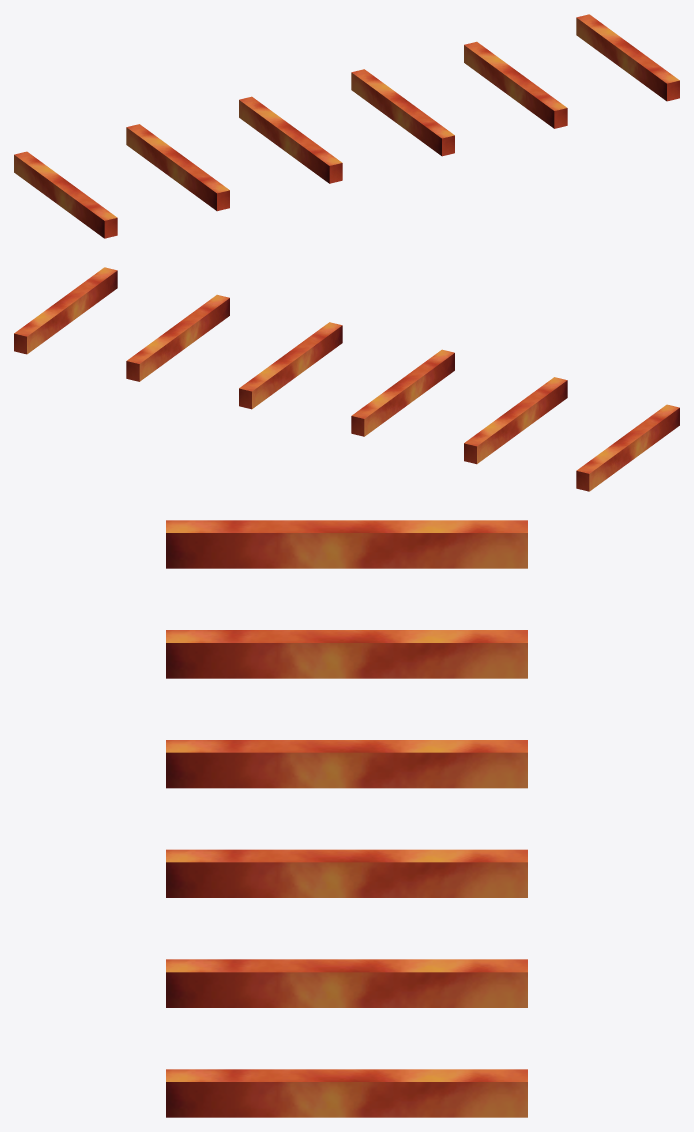
Rendered from lavablock.obj.
The picture shows the model from 3 angles, top to bottom: view 1: azimuth 30°, elevation 25°; view 2: azimuth 150°, elevation 25°; view 3: azimuth 270°, elevation 25°; orthographic projection. The views are drawn at different scales.
Visible parts, largest first — view 1: lavaBlock; view 2: lavaBlock; view 3: lavaBlock.
Boxes of the visible parts, box(x1,y1,x2,y2) form: lavaBlock: box(14, 14, 679, 238); lavaBlock: box(14, 267, 679, 491); lavaBlock: box(166, 520, 527, 1117).
Size of the model in its own units: 5.25 by 0.1554 by 1.43.
Materials: 1 (1 with a texture image).
